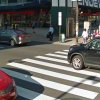crosswalk: (1, 49, 100, 100)
